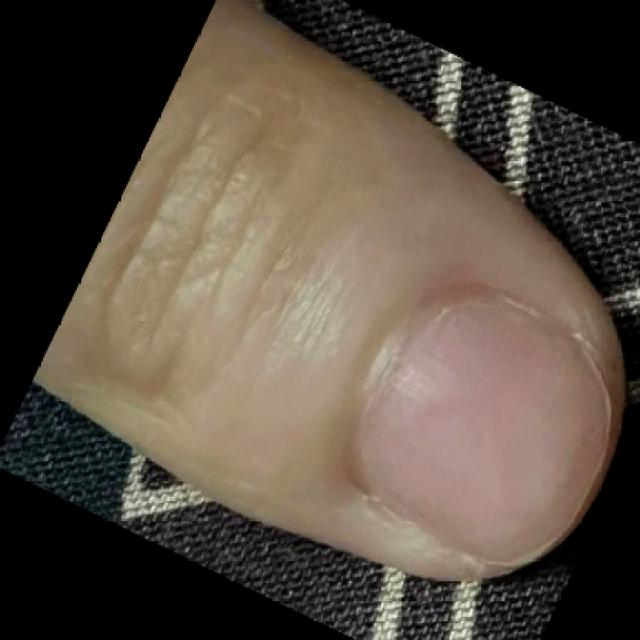Nail: (356, 300, 611, 570)
